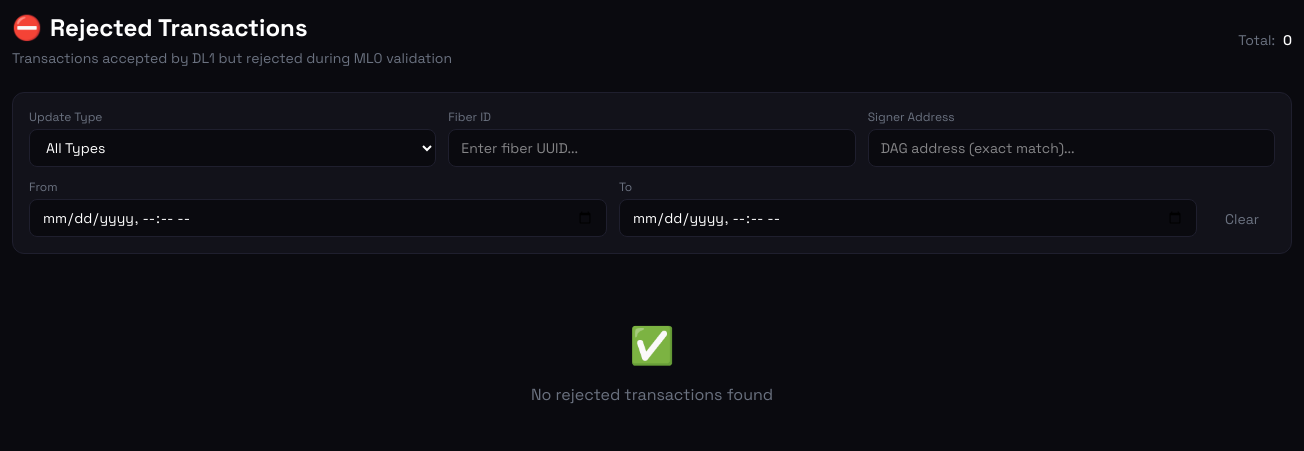
Test: RejectionsView — URL State Persistence › Clear button resets all filters and URL params (AC15)
The width and height of the screenshot is (1304, 451).
expect the text "No rejected transactions found" is shown: met, box [531,384,773,405]
Type "DAGsomeAddr" into the field with test id "filter-signer". click: (1071, 148)
box: [868,129,1275,167]
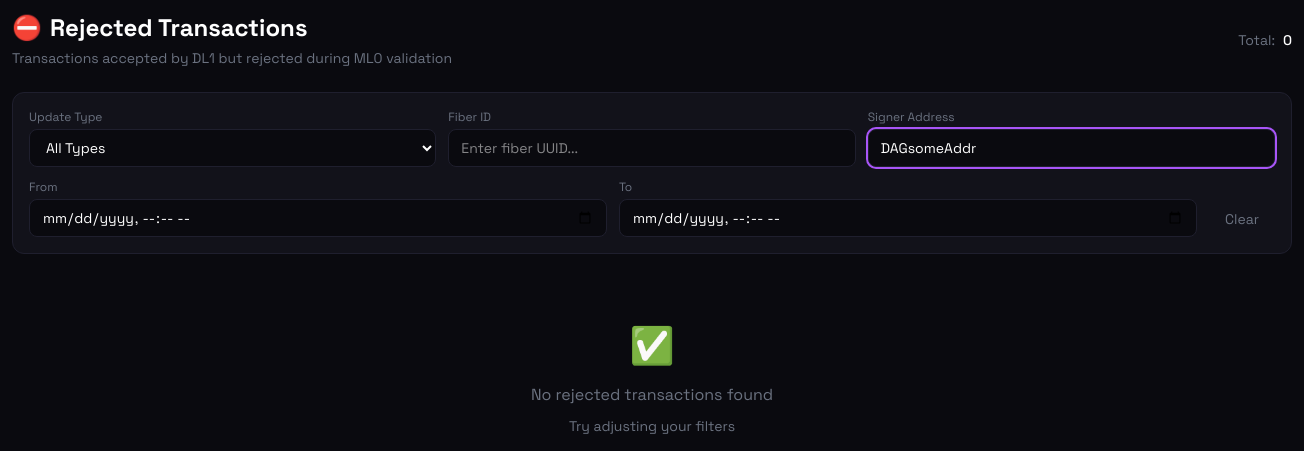
Click the button "Clear". click: click(1242, 219)
box: [1209,201,1275,237]
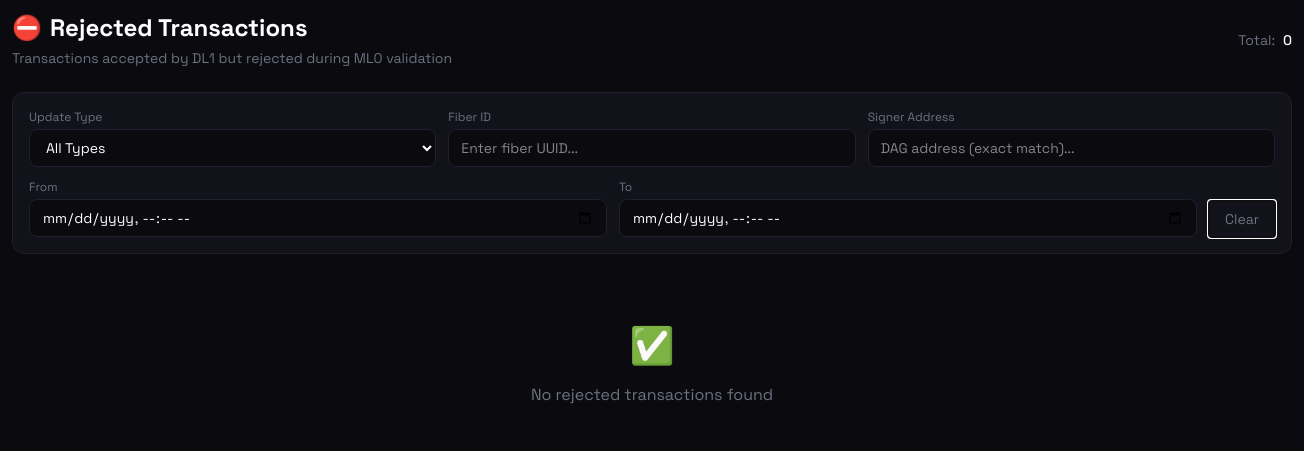
expect the field with test id "filter-signer" is empty: met, box [868,129,1275,167]
